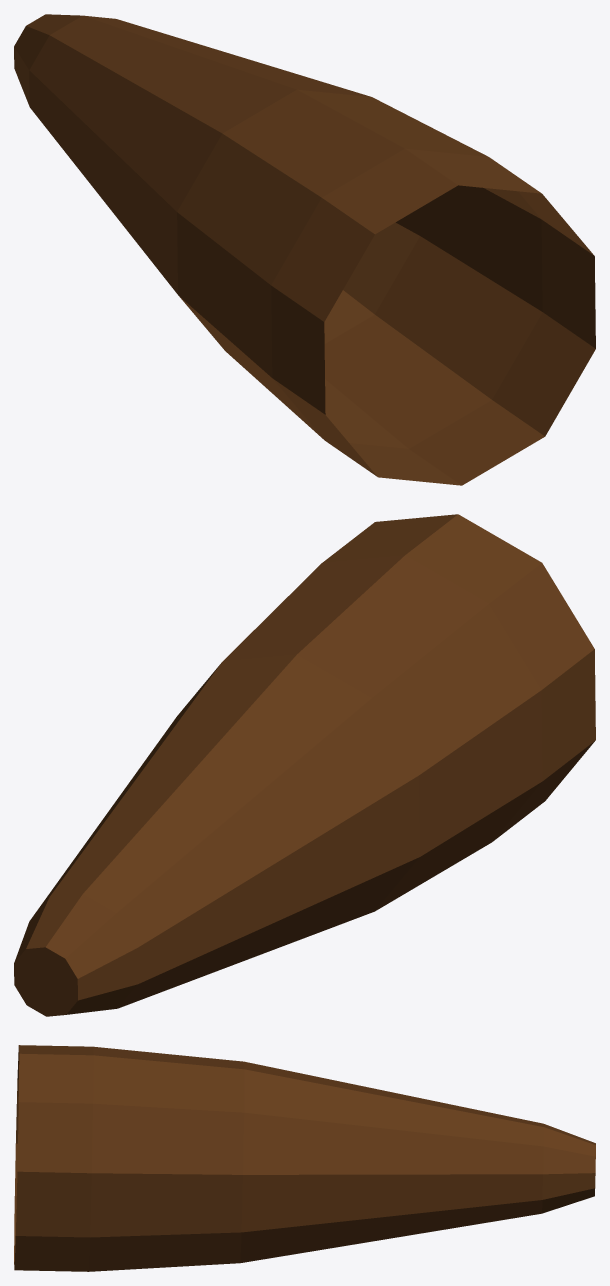
File: bullet.fbx
The picture shows the model from 3 angles, top to bottom: view 1: azimuth 30°, elevation 25°; view 2: azimuth 150°, elevation 25°; view 3: azimuth 270°, elevation 25°; orthographic projection. The views are drawn at different scales.
Parts seen in each view (by area): view 1: Rifle Bullet; view 2: Rifle Bullet; view 3: Rifle Bullet.
Boxes of the visible parts, bbox=[...] form: Rifle Bullet: bbox=[14, 14, 595, 485]; Rifle Bullet: bbox=[14, 514, 595, 1016]; Rifle Bullet: bbox=[14, 1045, 595, 1271].
Bounding box in the file's own units: 0.8944 × 0.9472 × 2.39.
